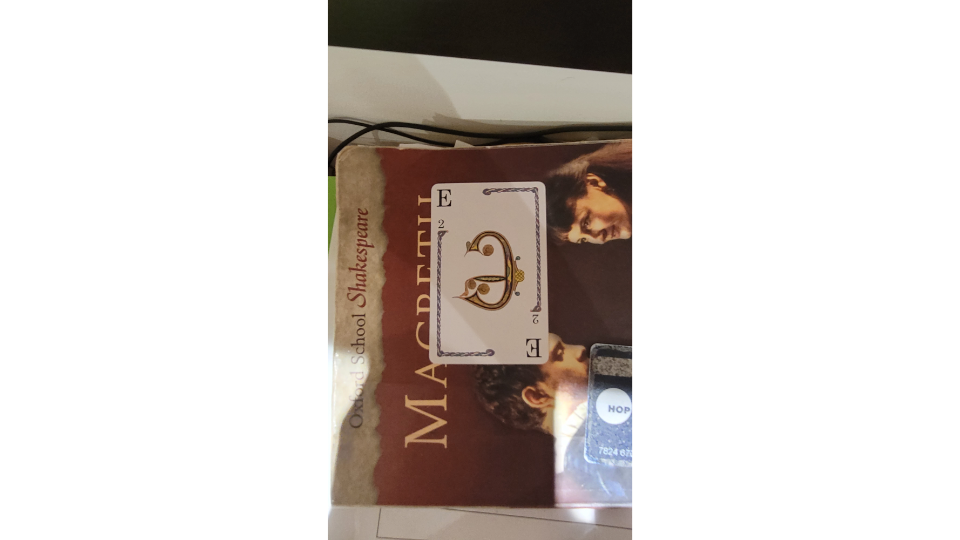E: (426, 176, 553, 370)
